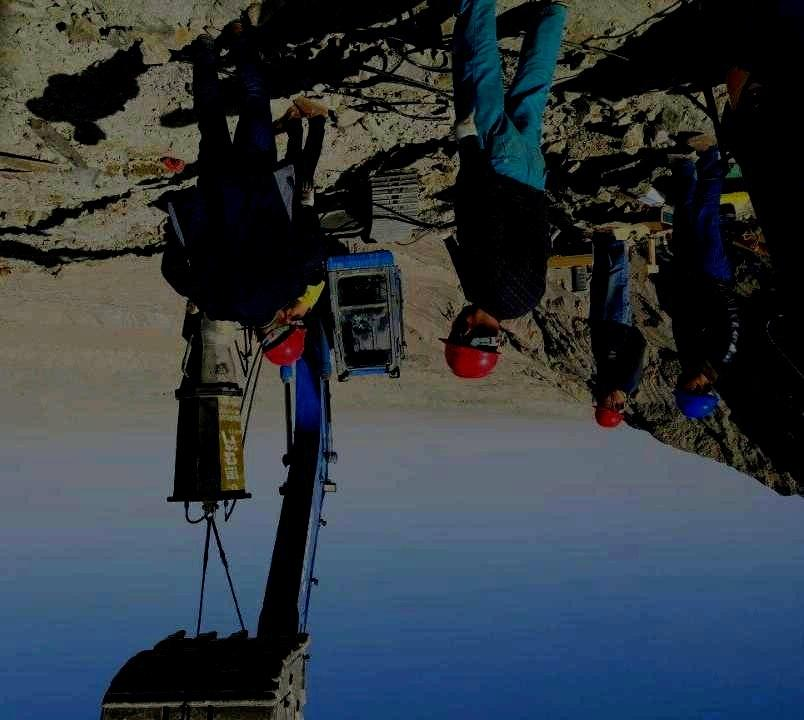helmet: (437, 304, 503, 380), (257, 313, 306, 366), (671, 372, 721, 420), (591, 388, 626, 428)
